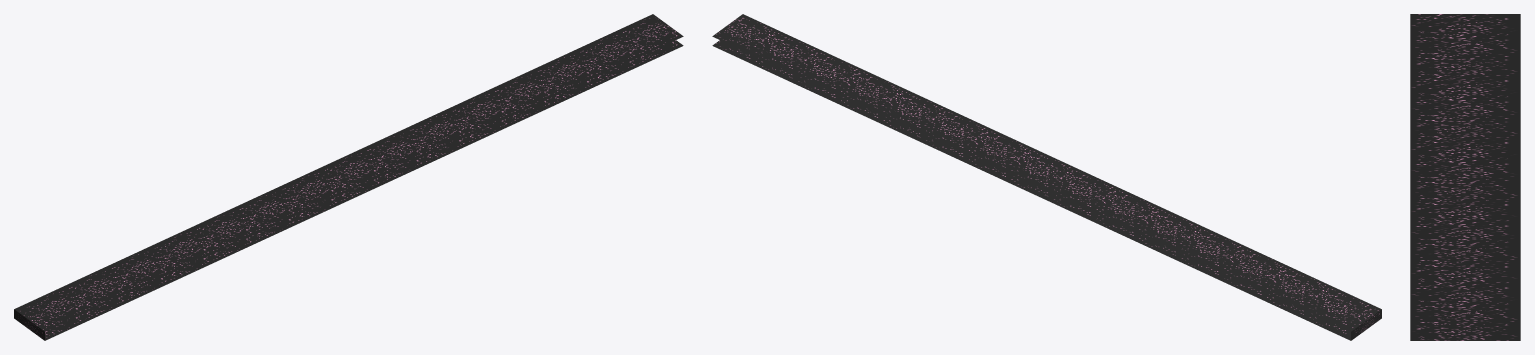
Rendered from CourseSpring_Box_Floor_11.fbx.
3 views of the same model, side by side, from view 1: azimuth 90°, elevation 25°; view 2: azimuth 210°, elevation 25°; view 3: azimuth 330°, elevation 25° (orthographic). The views are drawn at different scales.
Parts seen in each view (by area): view 1: polySurface63; view 2: polySurface63; view 3: polySurface63.
Part boxes in pixels (<box>): polySurface63: <box>14,14,683,340</box>; polySurface63: <box>712,14,1381,340</box>; polySurface63: <box>1410,14,1520,340</box>.
Bounding box in the file's own units: 41.2 × 16 × 65.35.
Materials: 1 (1 with a texture image).
